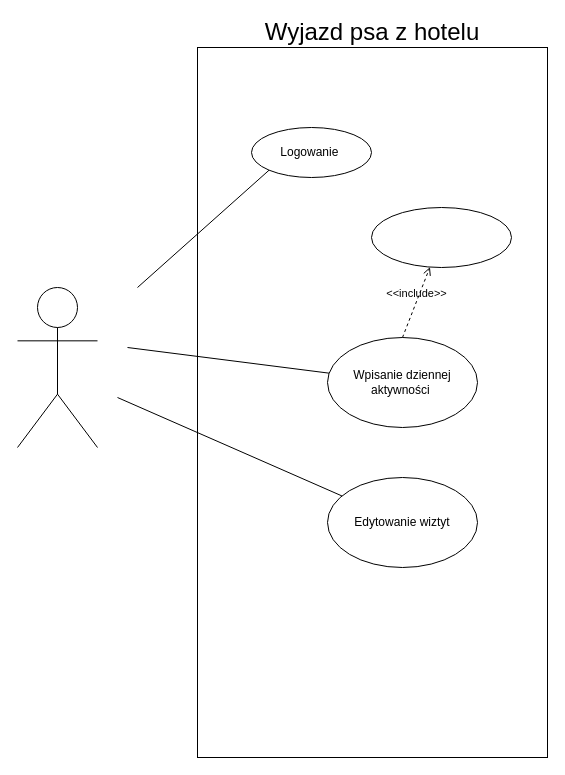
Some shapes in this 565 by 775 pixel diagram are drawn without their labels. The shapes that lost their labels are listed below. From the top down, each one's box as (x1, y1, x2, y2) in pixels, then its label:
(370, 206, 512, 268): Wyszukaj psa
(16, 286, 98, 448): Pracownik Hotelu
